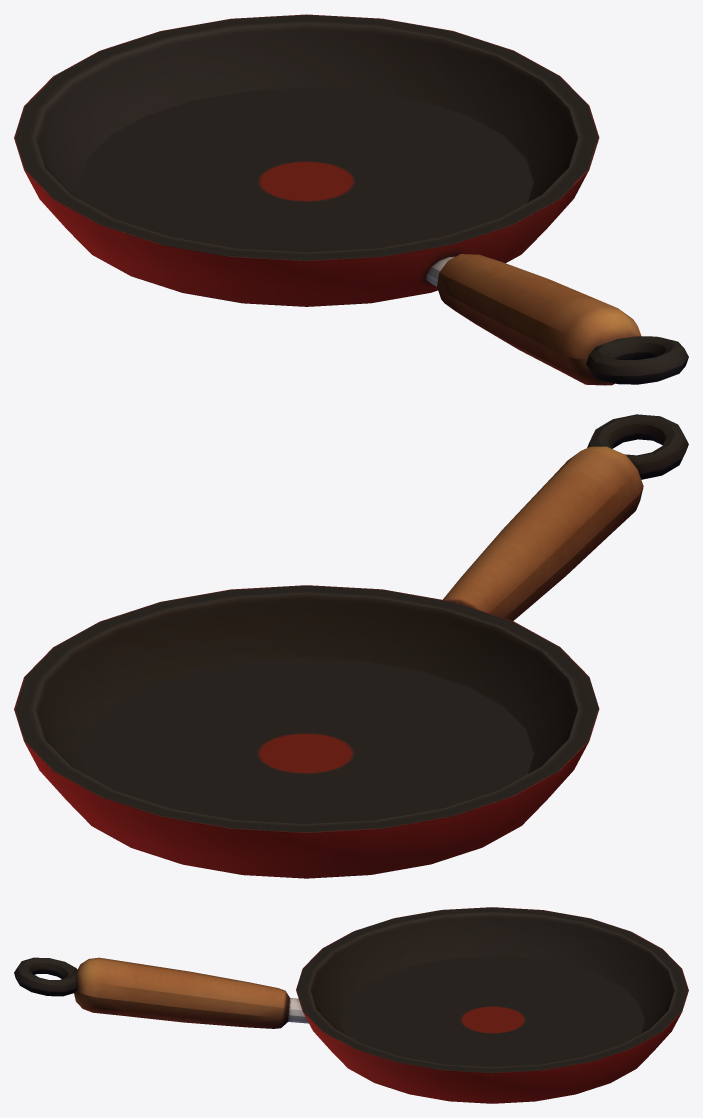
Rendered from Pan.fbx.
3 renders of one model, top to bottom at view 1: azimuth 30°, elevation 25°; view 2: azimuth 150°, elevation 25°; view 3: azimuth 270°, elevation 25°, orthographic. The views are drawn at different scales.
Visible parts, largest first — view 1: Pan; view 2: Pan; view 3: Pan.
Part boxes in pixels (x1,y1,x2,y2): Pan: (14, 14, 688, 385); Pan: (14, 414, 688, 878); Pan: (14, 907, 688, 1103).
Bounding box in the file's own units: 126 × 25.79 × 216.
